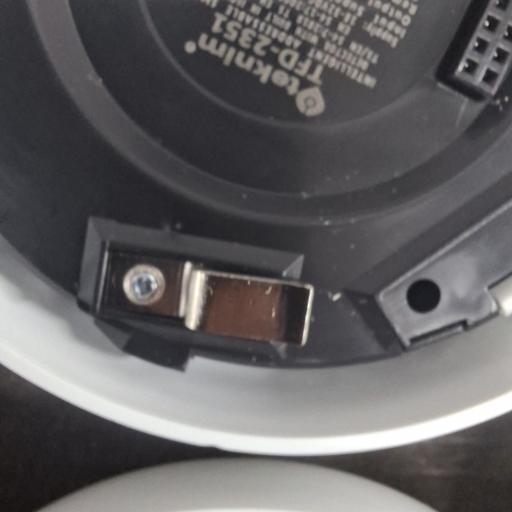yaysiz: (98, 250, 312, 349)
